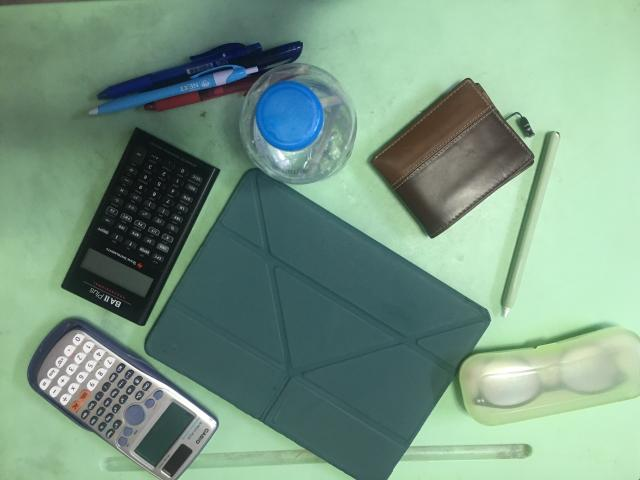Glasses: (460, 328, 640, 425)
Pen: (84, 41, 304, 117)
Wallet: (368, 78, 536, 239)
bottle: (239, 62, 358, 187)
